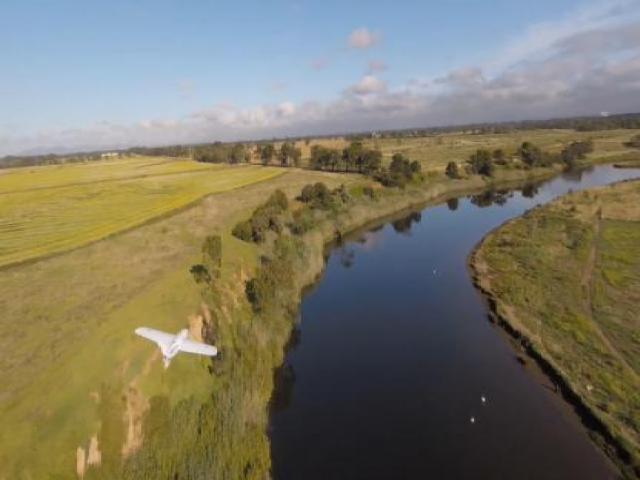uav: (136, 322, 218, 366)
